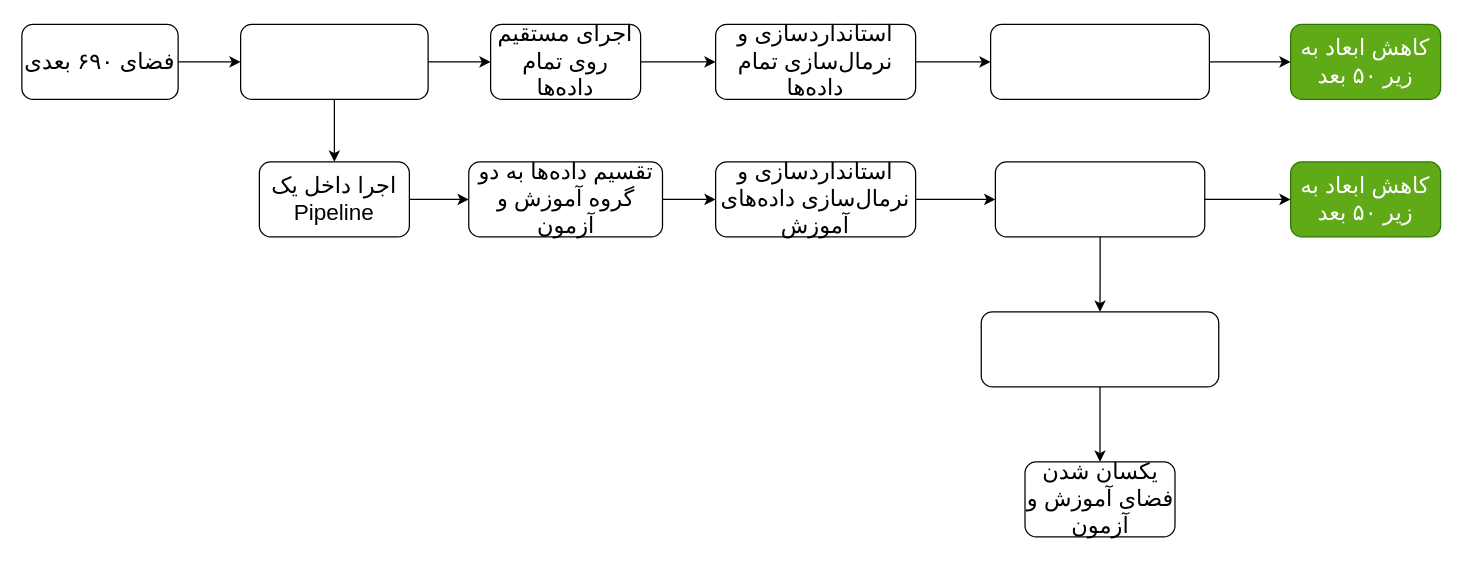
Some shapes in this 1463 by 561 pixel diagram are drawn without their labels. The shapes that lost their labels are listed below. From the top down, each one's centre as x and y in pixels, then its label:
the point at 333,61: نیاز به کاهش ابعاد فضا
the point at 1099,61: پیدا کردن مؤلفه‌های اصلی با استفاده از تمام داده‌ها
the point at 1099,199: پیدا کردن مؤلفه‌های اصلی تنها با استفاده از گروه آموزش
the point at 1099,349: اعمال ضرایب بدست آمده برای مولفه‌های اصلی برروی گروه آزمون
